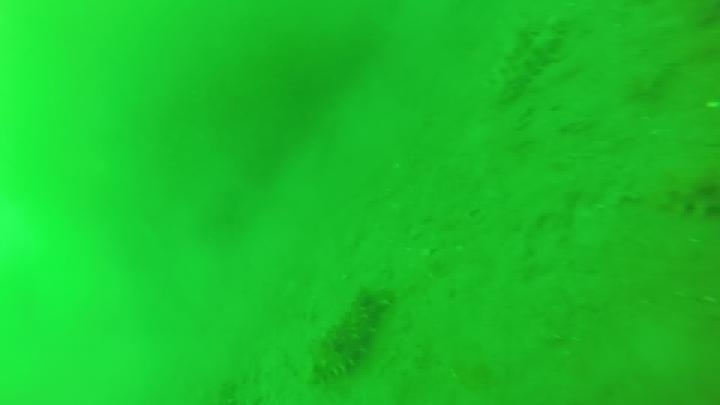holothurian: (308, 285, 407, 388), (490, 16, 573, 107), (665, 176, 720, 226)
